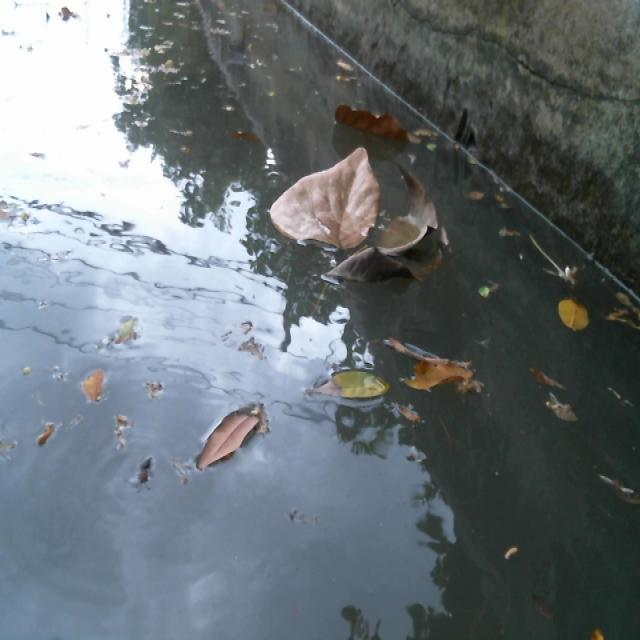Big-leaf: (266, 147, 445, 287), (332, 90, 425, 144)
Small-leaf: (388, 326, 489, 408), (192, 384, 273, 483), (292, 356, 385, 417), (534, 369, 589, 435), (466, 184, 520, 251), (102, 303, 147, 364), (603, 276, 640, 338), (83, 364, 118, 416), (226, 119, 272, 155), (325, 38, 362, 81), (562, 291, 595, 339), (469, 281, 514, 312), (425, 146, 441, 160)
